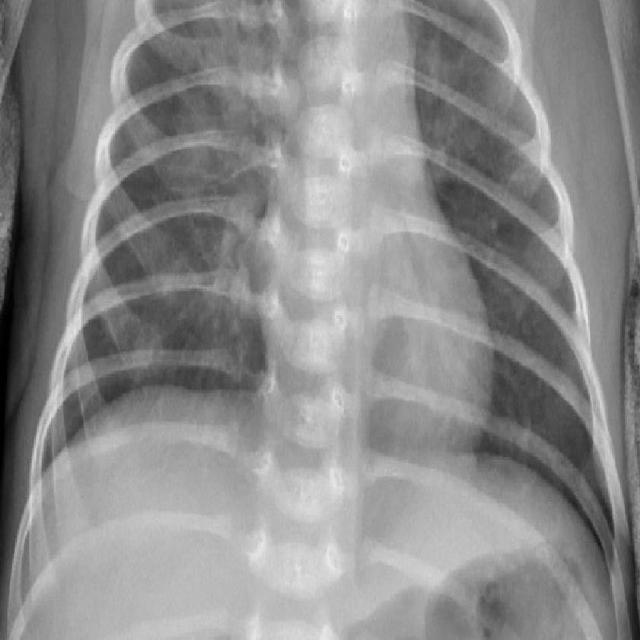low-pneumonia: (175, 7, 287, 319), (429, 49, 469, 188)
